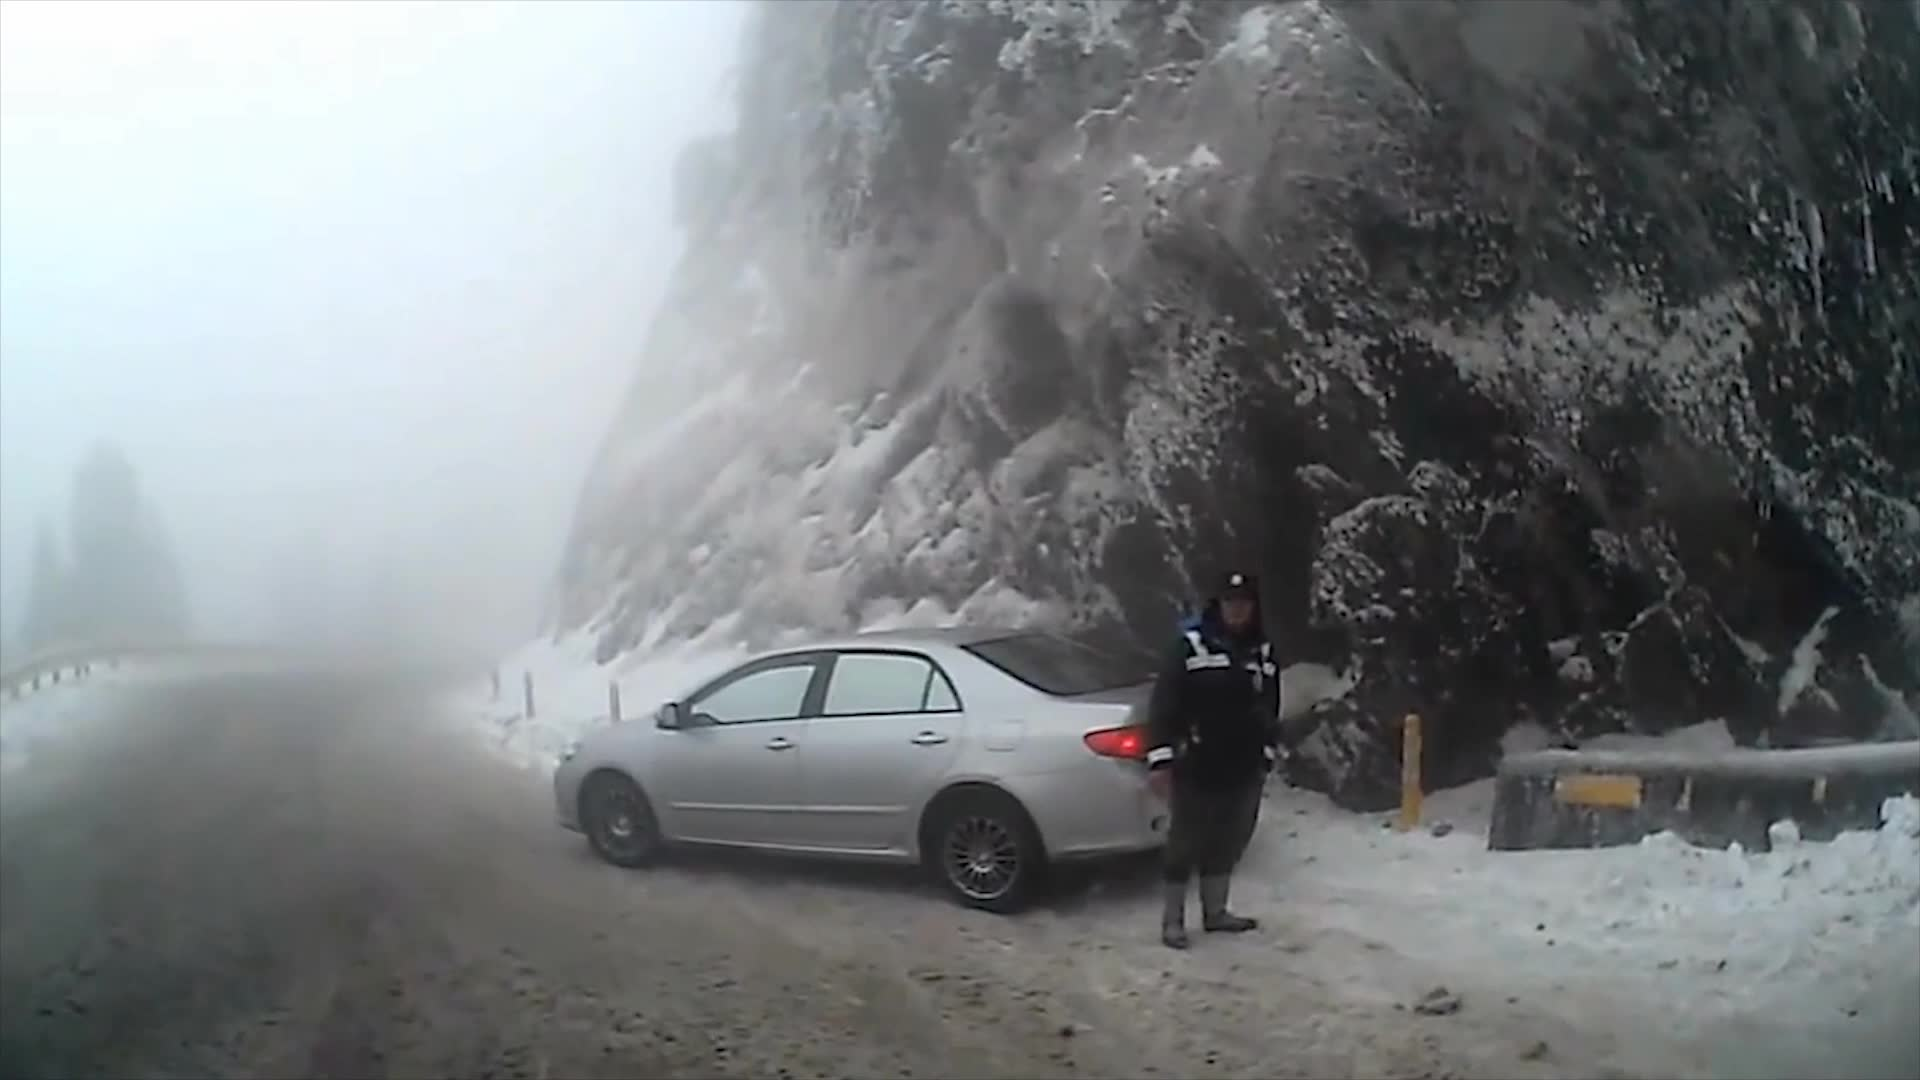pedestrian: (1141, 569, 1282, 948)
vehicle: (549, 623, 1263, 913)
